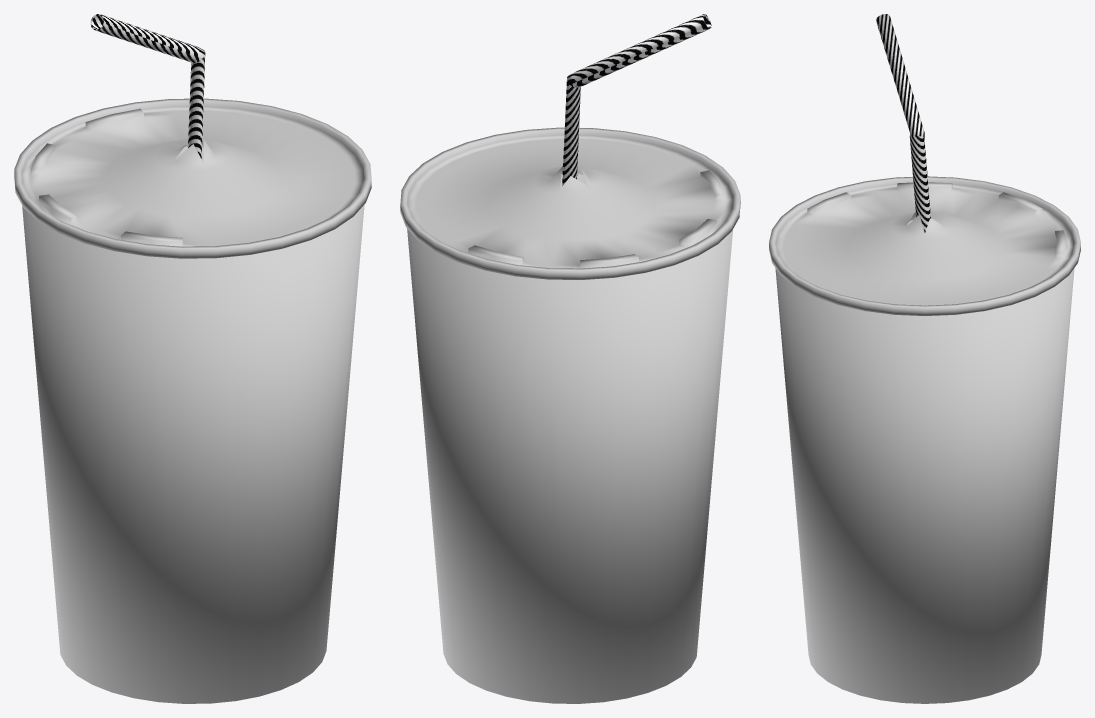
Rendered from DrinksCup.fbx.
The picture shows the model from 3 angles, left to right: view 1: azimuth 30°, elevation 25°; view 2: azimuth 150°, elevation 25°; view 3: azimuth 270°, elevation 25°; orthographic projection. The views are drawn at different scales.
Visible parts, largest first — view 1: Cylinder, Cylinder.001, Cylinder.002; view 2: Cylinder, Cylinder.001, Cylinder.002; view 3: Cylinder, Cylinder.001, Cylinder.002.
Boxes of the visible parts, x1=… form: Cylinder: x1=22, y1=146, x2=364, y2=703; Cylinder.001: x1=14, y1=98, x2=371, y2=258; Cylinder.002: x1=90, y1=14, x2=205, y2=158; Cylinder: x1=407, y1=173, x2=732, y2=703; Cylinder.001: x1=400, y1=127, x2=740, y2=279; Cylinder.002: x1=562, y1=14, x2=711, y2=186; Cylinder: x1=775, y1=218, x2=1074, y2=703; Cylinder.001: x1=769, y1=176, x2=1080, y2=315; Cylinder.002: x1=876, y1=14, x2=930, y2=232.
Bounding box in the file's own units: 2.06 × 4.31 × 2.06.
3 materials, 1 textured.
